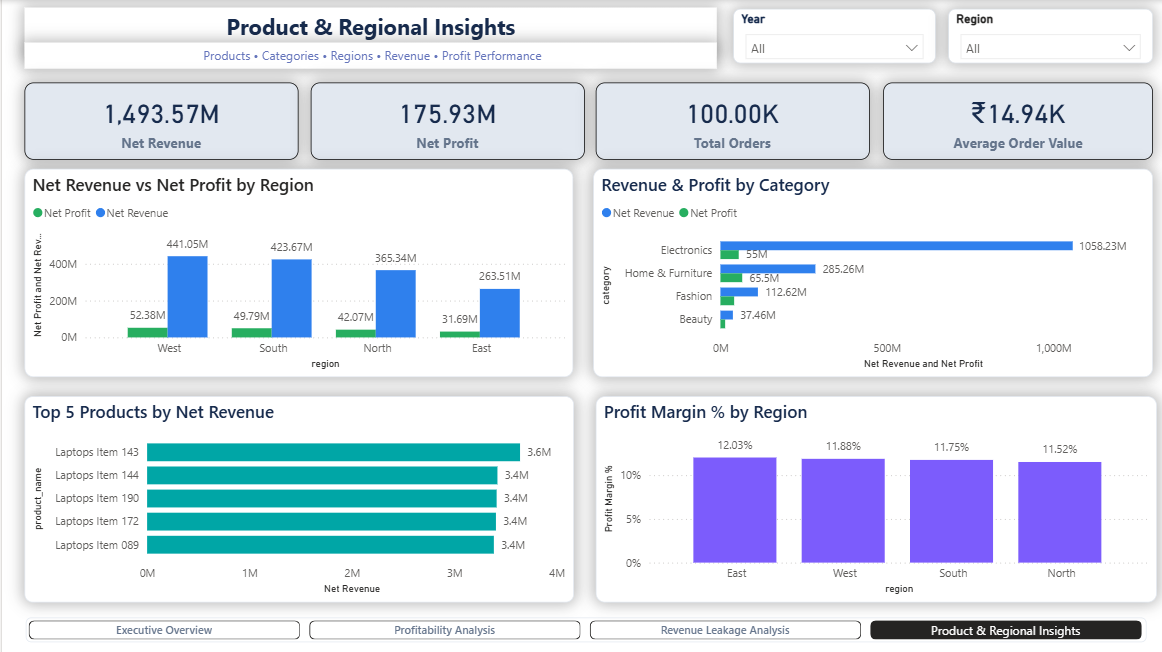

Layout of this report page (visuals, bound fields, positions):
{"tool":"powerbi","page":{"name":"Product & Regional Insights","canvas":[1280,720],"ordinal":3},"visuals":[{"type":"textbox","box":[24.7,8.2,760.2,53.5],"z":0},{"type":"textbox","box":[24.7,46.7,760.2,28.8],"z":1000},{"type":"slicer","title":"Year","fields":{"Values":["DateTable.Year"]},"box":[802.7,9.6,222.3,60.4],"z":2000},{"type":"slicer","title":"Region","fields":{"Values":["public ecommerce_transactions.region"]},"box":[1038.8,9.6,225,60.4],"z":3000},{"type":"card","fields":{"Values":["public ecommerce_transactions.Net Revenue"]},"box":[24.7,90.6,300.5,85.1],"z":4000},{"type":"card","fields":{"Values":["public ecommerce_transactions.Net Profit"]},"box":[338.9,90.6,300.5,85.1],"z":5000},{"type":"card","fields":{"Values":["public ecommerce_transactions.Total Orders"]},"box":[651.8,90.6,300.5,85.1],"z":6000},{"type":"card","fields":{"Values":["public ecommerce_transactions.Average Order Value"]},"box":[967.4,90.6,296.4,85.1],"z":7000},{"type":"clusteredColumnChart","title":"Net Revenue vs Net Profit by Region","fields":{"Category":["public ecommerce_transactions.region"],"Y":["public ecommerce_transactions.Net Profit","public ecommerce_transactions.Net Revenue"]},"box":[24.7,185.2,602.4,229.2],"z":8000},{"type":"clusteredBarChart","title":"Revenue & Profit by Category","fields":{"Category":["public ecommerce_transactions.category"],"Y":["public ecommerce_transactions.Net Revenue","public ecommerce_transactions.Net Profit"]},"box":[649.1,185.2,614.8,229.2],"z":9000},{"type":"clusteredBarChart","title":"Top 5 Products by Net Revenue","fields":{"Y":["public ecommerce_transactions.Net Revenue"],"Category":["public ecommerce_transactions.product_name"]},"box":[24.2,434.7,602.9,226.6],"z":10000},{"type":"clusteredColumnChart","title":"Profit Margin % by Region","fields":{"Category":["public ecommerce_transactions.region"],"Y":["public ecommerce_transactions.Profit Margin %"]},"box":[651.4,434.7,615.8,226.6],"z":11000},{"type":"pageNavigator","box":[25.7,678.5,1230.1,27.1],"z":12000}]}

Visuals, with their boxes in screenshot pixels (x1, y1, x2, y2), scaled from the page's 1280x720 canvas onto the 1162x652 screenshot:
textbox: <bbox>22, 7, 713, 56</bbox>
textbox: <bbox>22, 42, 713, 68</bbox>
"Year" slicer: <bbox>729, 9, 931, 63</bbox>
"Region" slicer: <bbox>943, 9, 1147, 63</bbox>
card - public ecommerce_transactions.Net Revenue: <bbox>22, 82, 295, 159</bbox>
card - public ecommerce_transactions.Net Profit: <bbox>308, 82, 580, 159</bbox>
card - public ecommerce_transactions.Total Orders: <bbox>592, 82, 865, 159</bbox>
card - public ecommerce_transactions.Average Order Value: <bbox>878, 82, 1147, 159</bbox>
"Net Revenue vs Net Profit by Region" clusteredColumnChart: <bbox>22, 168, 569, 375</bbox>
"Revenue & Profit by Category" clusteredBarChart: <bbox>589, 168, 1147, 375</bbox>
"Top 5 Products by Net Revenue" clusteredBarChart: <bbox>22, 394, 569, 599</bbox>
"Profit Margin % by Region" clusteredColumnChart: <bbox>591, 394, 1150, 599</bbox>
pageNavigator: <bbox>23, 614, 1140, 639</bbox>
